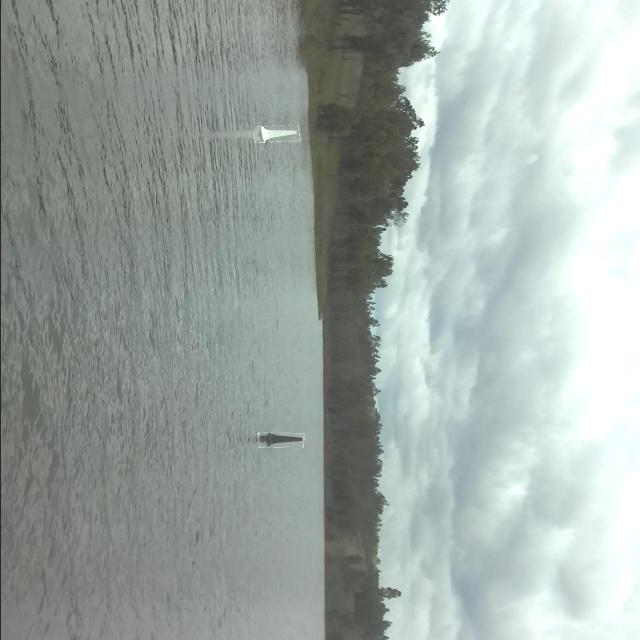Black_Buoy: (248, 434, 324, 456)
White_Buoy: (250, 120, 300, 148)
